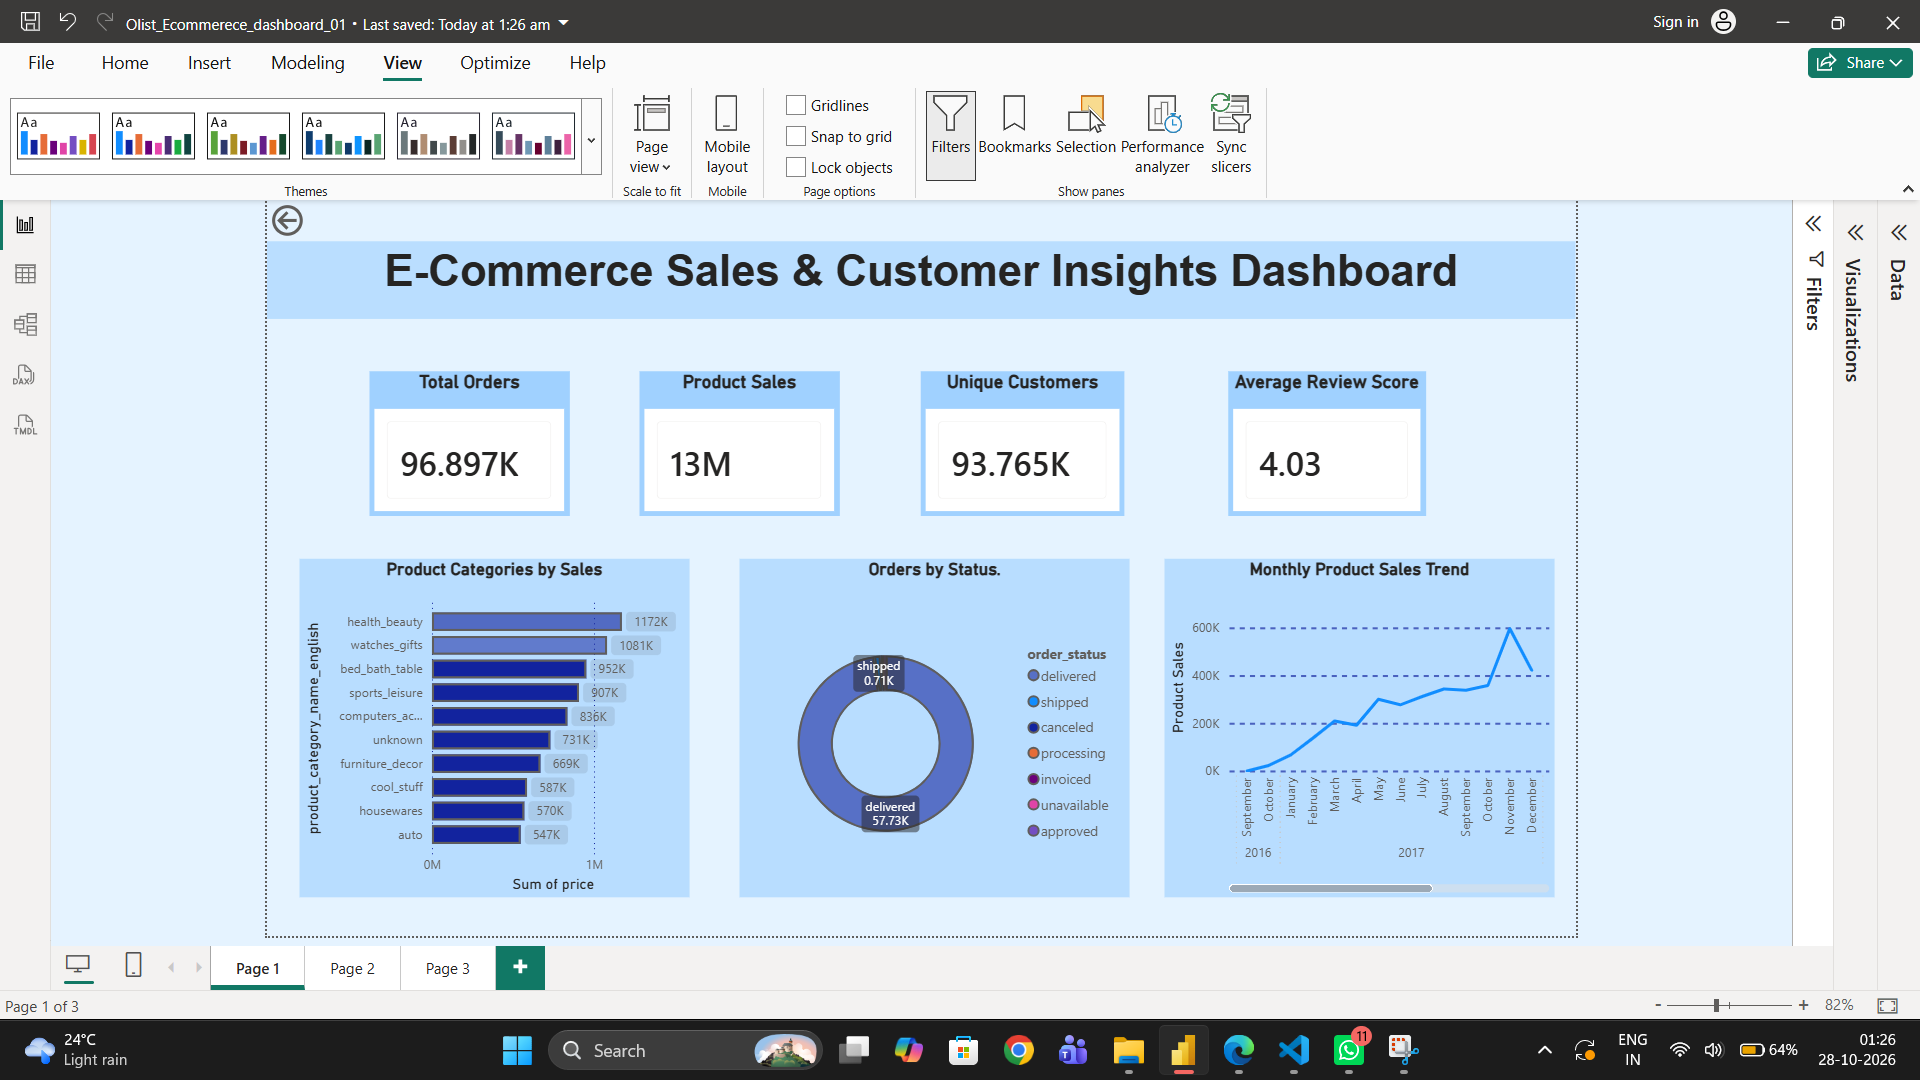

Layout of this report page (visuals, bound fields, positions):
{"tool":"powerbi","page":{"name":"Page 1","canvas":[1280,720],"ordinal":0},"visuals":[{"type":"cardVisual","title":"Total Orders","fields":{"Data":["Count(olist_master_dataset.order_id)"]},"box":[100.3,167.5,195.7,141.8],"z":0},{"type":"cardVisual","title":"Product Sales","fields":{"Data":["Sum(olist_master_dataset.price)"]},"box":[364.4,167.5,195.7,141.8],"z":1000},{"type":"cardVisual","title":"Unique Customers","fields":{"Data":["Count(olist_master_dataset.customer_unique_id)"]},"box":[639.5,167.5,199.3,141.8],"z":2000},{"type":"cardVisual","title":"Average Review Score","fields":{"Data":["Avg(olist_master_dataset.avg_review_score)"]},"box":[940.4,167.8,193.2,141.8],"z":3000},{"type":"actionButton","box":[0,0,100,40],"z":4000},{"type":"clusteredBarChart","title":"Product Categories by Sales","fields":{"Category":["olist_master_dataset.product_category_name_english"],"Y":["Sum(olist_master_dataset.price)"]},"box":[31.8,351,381.5,331.4],"z":5000},{"type":"donutChart","title":"Orders by Status.","fields":{"Category":["olist_master_dataset.order_status"],"Y":["Count(olist_master_dataset.order_id)"]},"box":[462.2,351,381.5,331.4],"z":6000},{"type":"lineChart","title":"Monthly Product Sales Trend","fields":{"Y":["Sum(olist_master_dataset.price)"],"Category":["olist_master_dataset.order_purchase_timestamp.Variation.Date Hierarchy.Year","olist_master_dataset.order_purchase_timestamp.Variation.Date Hierarchy.Month"]},"box":[878,351,381.5,331.4],"z":7000},{"type":"textbox","box":[0,40.4,1280.3,75.8],"z":8000}]}

Visuals, with their boxes on the page's 1280x720 design canvas (x1, y1, x2, y2). These are canvas units, not pixel positions in the 1920x1080 screenshot, which may show the page scaled, cropped or inside an application window:
"Total Orders" cardVisual: left=100, top=168, right=296, bottom=309
"Product Sales" cardVisual: left=364, top=168, right=560, bottom=309
"Unique Customers" cardVisual: left=640, top=168, right=839, bottom=309
"Average Review Score" cardVisual: left=940, top=168, right=1134, bottom=310
actionButton: left=0, top=0, right=100, bottom=40
"Product Categories by Sales" clusteredBarChart: left=32, top=351, right=413, bottom=682
"Orders by Status." donutChart: left=462, top=351, right=844, bottom=682
"Monthly Product Sales Trend" lineChart: left=878, top=351, right=1260, bottom=682
textbox: left=0, top=40, right=1280, bottom=116
